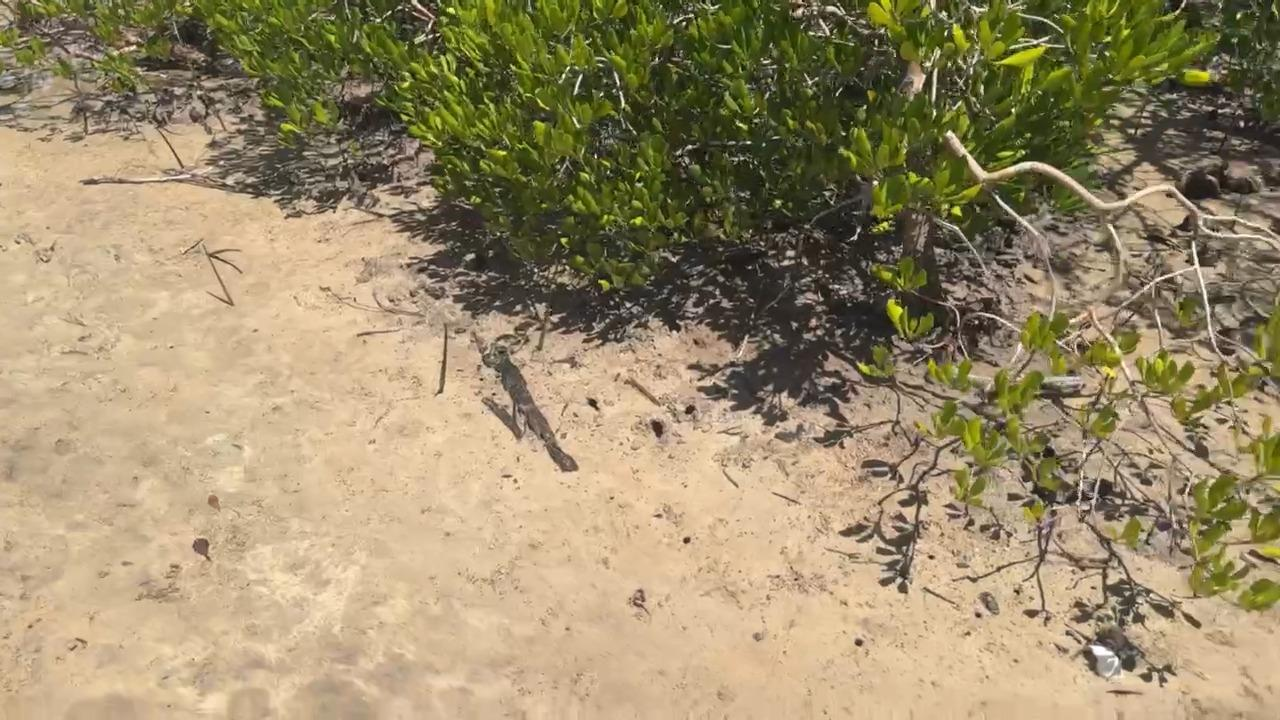Tree: (202, 241, 237, 308), (154, 128, 184, 169), (206, 102, 230, 134), (438, 323, 449, 391), (537, 302, 552, 351), (1228, 196, 1239, 228)
